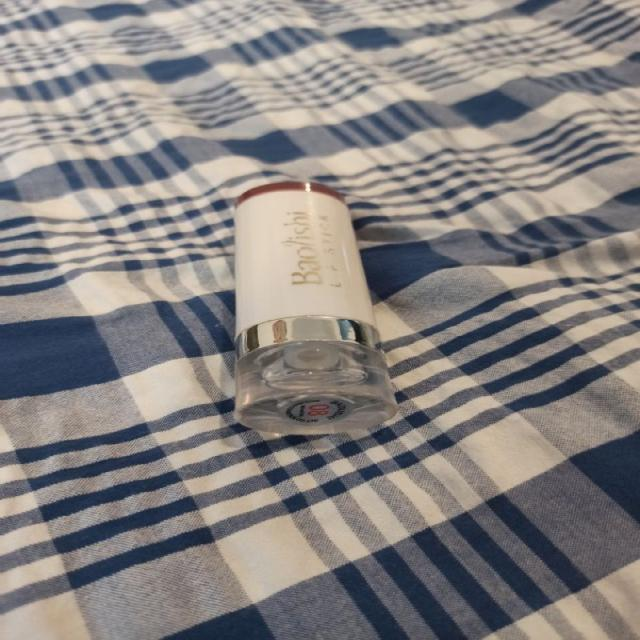lipstick: (231, 179, 398, 436)
